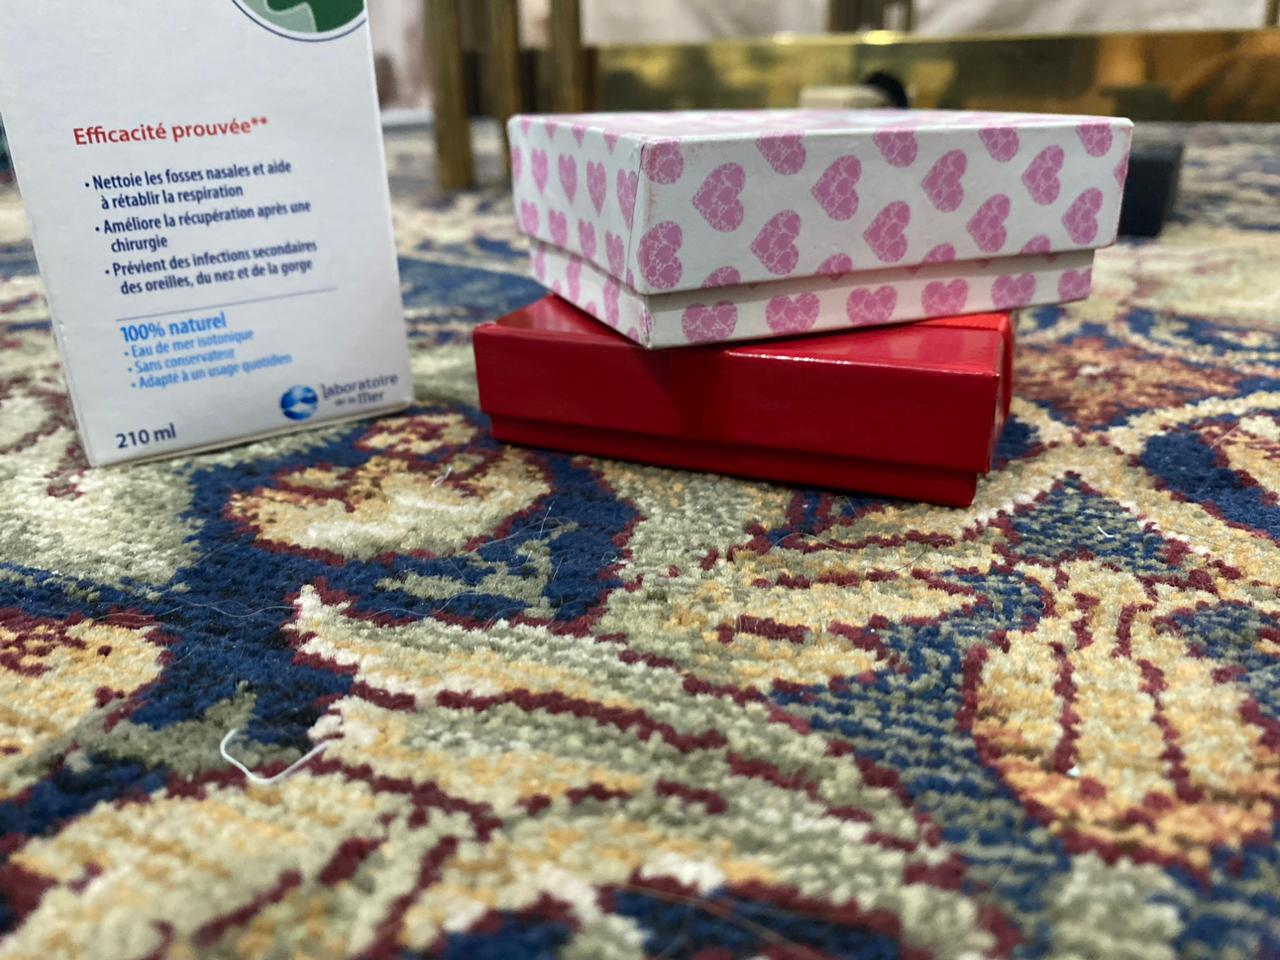Black Box: (469, 293, 1016, 517)
Physiomer: (1, 1, 421, 478)
Pink Box: (498, 103, 1135, 354)
